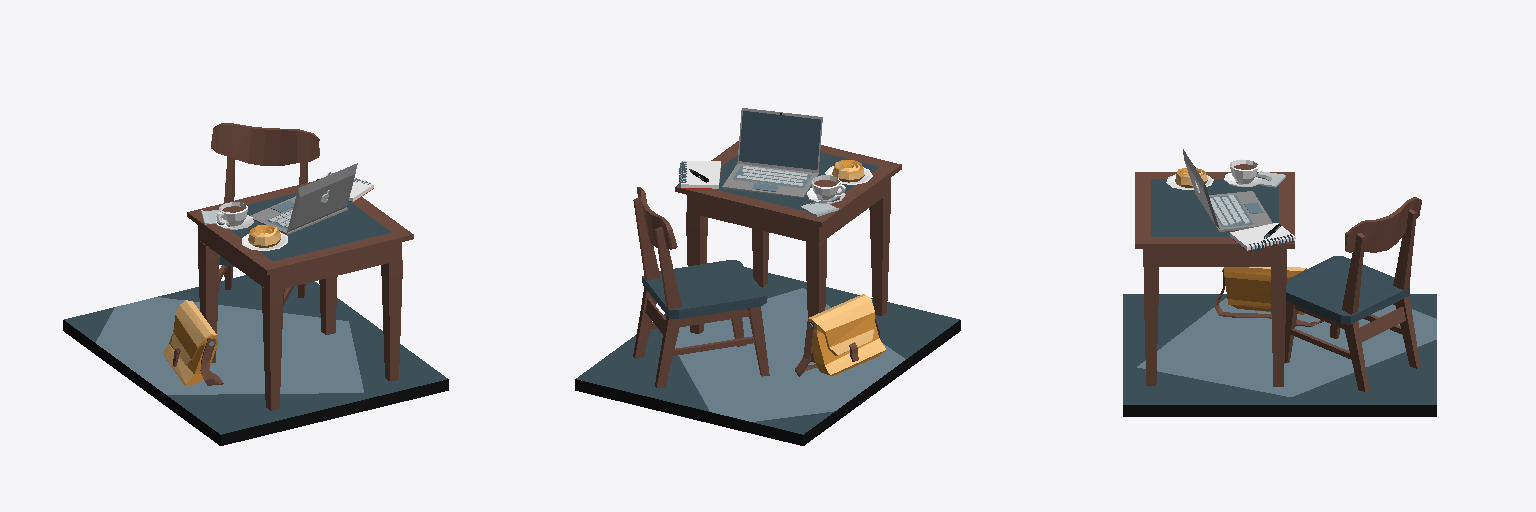
The model's file is pcAndDesk.obj.
The picture shows the model from 3 angles: view 1: azimuth 30°, elevation 25°; view 2: azimuth 150°, elevation 25°; view 3: azimuth 270°, elevation 25°; orthographic projection.
Visible parts, largest first — view 1: mesh_[number redacted], mesh_[number redacted], mesh_[number redacted], mesh_[number redacted], mesh_[number redacted], mesh_[number redacted], mesh_[number redacted], mesh_[number redacted], mesh_[number redacted], mesh_[number redacted], mesh_[number redacted], mesh_[number redacted]; view 2: mesh_[number redacted], mesh_[number redacted], mesh_[number redacted], mesh_[number redacted], mesh_[number redacted], mesh_[number redacted], mesh_[number redacted], mesh_[number redacted], mesh_[number redacted], mesh_[number redacted], mesh_[number redacted], mesh_[number redacted] (+1 smaller); view 3: mesh_[number redacted], mesh_[number redacted], mesh_[number redacted], mesh_[number redacted], mesh_[number redacted], mesh_[number redacted], mesh_[number redacted], mesh_[number redacted], mesh_[number redacted], mesh_[number redacted].
Part boxes in pixels (left/top/right/bottom): mesh_[number redacted]: left=63, top=275, right=448, bottom=445; mesh_[number redacted]: left=187, top=181, right=413, bottom=291; mesh_[number redacted]: left=211, top=123, right=319, bottom=305; mesh_[number redacted]: left=163, top=300, right=223, bottom=385; mesh_[number redacted]: left=287, top=163, right=357, bottom=232; mesh_[number redacted]: left=262, top=287, right=282, bottom=410; mesh_[number redacted]: left=381, top=260, right=402, bottom=381; mesh_[number redacted]: left=198, top=240, right=219, bottom=362; mesh_[number redacted]: left=251, top=196, right=347, bottom=234; mesh_[number redacted]: left=319, top=276, right=337, bottom=334; mesh_[number redacted]: left=248, top=225, right=280, bottom=247; mesh_[number redacted]: left=216, top=202, right=247, bottom=227; mesh_[number redacted]: left=575, top=267, right=960, bottom=445; mesh_[number redacted]: left=633, top=187, right=769, bottom=387; mesh_[number redacted]: left=675, top=141, right=901, bottom=243; mesh_[number redacted]: left=795, top=294, right=885, bottom=376; mesh_[number redacted]: left=737, top=108, right=822, bottom=172; mesh_[number redacted]: left=722, top=164, right=818, bottom=197; mesh_[number redacted]: left=869, top=192, right=890, bottom=315; mesh_[number redacted]: left=806, top=239, right=826, bottom=362; mesh_[number redacted]: left=686, top=212, right=707, bottom=333; mesh_[number redacted]: left=678, top=161, right=720, bottom=188; mesh_[number redacted]: left=752, top=228, right=768, bottom=287; mesh_[number redacted]: left=811, top=175, right=845, bottom=200; mesh_[number redacted]: left=1123, top=294, right=1436, bottom=416; mesh_[number redacted]: left=1285, top=197, right=1421, bottom=391; mesh_[number redacted]: left=1135, top=172, right=1294, bottom=266; mesh_[number redacted]: left=1215, top=267, right=1323, bottom=326; mesh_[number redacted]: left=1199, top=191, right=1272, bottom=231; mesh_[number redacted]: left=1271, top=267, right=1286, bottom=386; mesh_[number redacted]: left=1144, top=267, right=1158, bottom=385; mesh_[number redacted]: left=1230, top=223, right=1295, bottom=251; mesh_[number redacted]: left=1183, top=149, right=1219, bottom=228; mesh_[number redacted]: left=1230, top=159, right=1258, bottom=184.
Bounding box in the file's own units: 1.44 × 1.27 × 1.72.